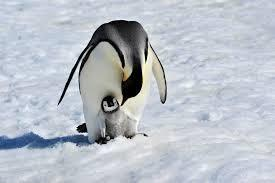emporer: (68, 18, 180, 147)
